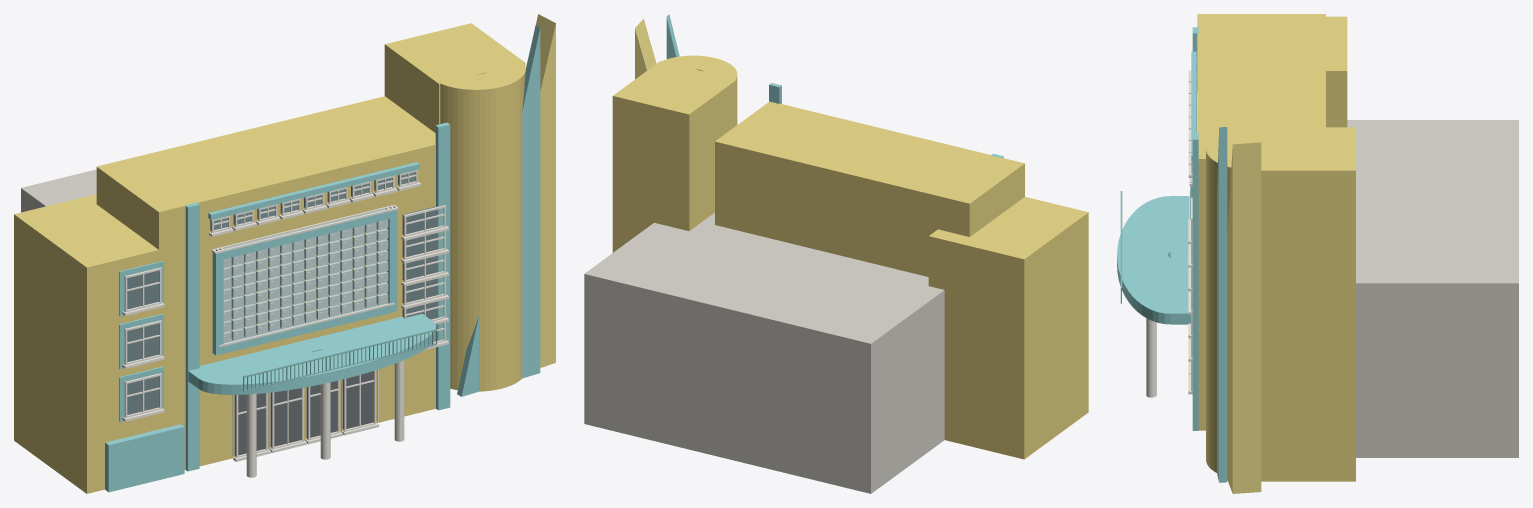
File: teatro-colon.glb
3 renders of one model, left to right at view 1: azimuth 30°, elevation 25°; view 2: azimuth 150°, elevation 25°; view 3: azimuth 270°, elevation 25°, orthographic. The views are drawn at different scales.
Visible parts, largest first — view 1: edificio · mat-ddb93f, edificio · mat-55b8bb, edificio · mat-9fc6c7, edificio · mat-eee7d6, edificio · mat-e8c848, edificio · mat-33484c, edificio · mat-292f31, edificio · mat-eee8d8, edificio · mat-438d87, edificio · mat-b8b2a3, edificio · mat-3c5b60, edificio · mat-c2d7d1; view 2: edificio · mat-ddb93f, edificio · mat-b8b2a3, edificio · mat-e8c848, edificio · mat-55b8bb; view 3: edificio · mat-ddb93f, edificio · mat-b8b2a3, edificio · mat-55b8bb, edificio · mat-e8c848, edificio · mat-eee7d6, edificio · mat-eee8d8.
Boxes of the visible parts, x1,y1,x2,y2 form: edificio · mat-ddb93f: (14,23,525,493); edificio · mat-55b8bb: (105,25,540,492); edificio · mat-9fc6c7: (223,219,388,342); edificio · mat-eee7d6: (122,170,448,461); edificio · mat-e8c848: (526,14,555,367); edificio · mat-33484c: (127,206,438,414); edificio · mat-292f31: (234,371,373,455); edificio · mat-eee8d8: (246,360,404,477); edificio · mat-438d87: (243,329,436,391); edificio · mat-b8b2a3: (21,169,96,212); edificio · mat-3c5b60: (210,172,415,230); edificio · mat-c2d7d1: (223,222,382,336); edificio · mat-ddb93f: (612,55,1088,459); edificio · mat-b8b2a3: (584,212,944,493); edificio · mat-e8c848: (635,18,656,79); edificio · mat-55b8bb: (666,14,1003,157); edificio · mat-ddb93f: (1197,14,1355,481); edificio · mat-b8b2a3: (1347,120,1518,457); edificio · mat-55b8bb: (1117,27,1227,482); edificio · mat-e8c848: (1227,142,1261,493); edificio · mat-eee7d6: (1188,51,1197,394); edificio · mat-eee8d8: (1146,318,1156,397).
Size of the model in its own units: 26.97 by 18.3 by 18.75.
